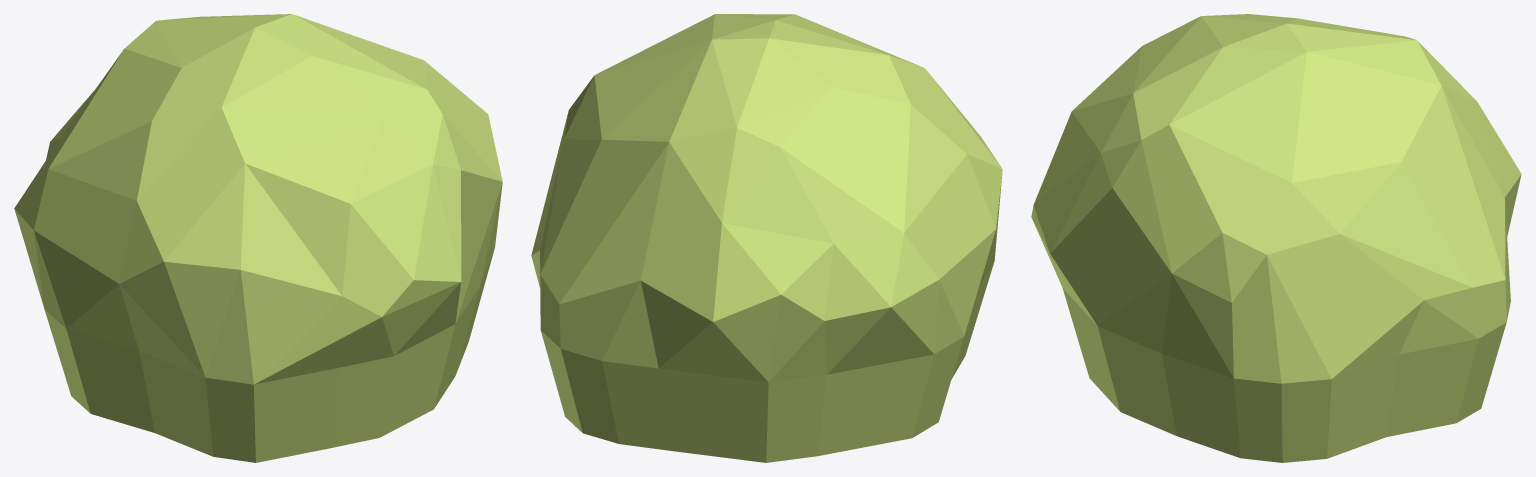
The model's file is Bush_b_l_01.fbx.
The picture shows the model from 3 angles, left to right: view 1: azimuth 30°, elevation 25°; view 2: azimuth 150°, elevation 25°; view 3: azimuth 270°, elevation 25°; orthographic projection.
Parts seen in each view (by area): view 1: Bush_b_l_01; view 2: Bush_b_l_01; view 3: Bush_b_l_01.
Part boxes in pixels (left/top/right/bottom): Bush_b_l_01: left=14, top=14, right=502, bottom=462; Bush_b_l_01: left=531, top=14, right=1002, bottom=462; Bush_b_l_01: left=1031, top=14, right=1521, bottom=462.
Bounding box in the file's own units: 2.92 × 2.29 × 2.97.
